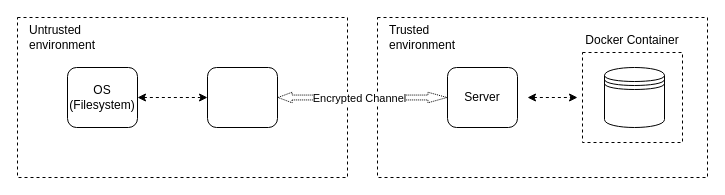
The diagram is 725 pixels wide and 195 high, and some of its shapes have lost their labels. Here are the shapes that lost their labels. From the top down, the box of each, then its label:
(206, 66, 278, 128): Client
(604, 66, 664, 128): Database
